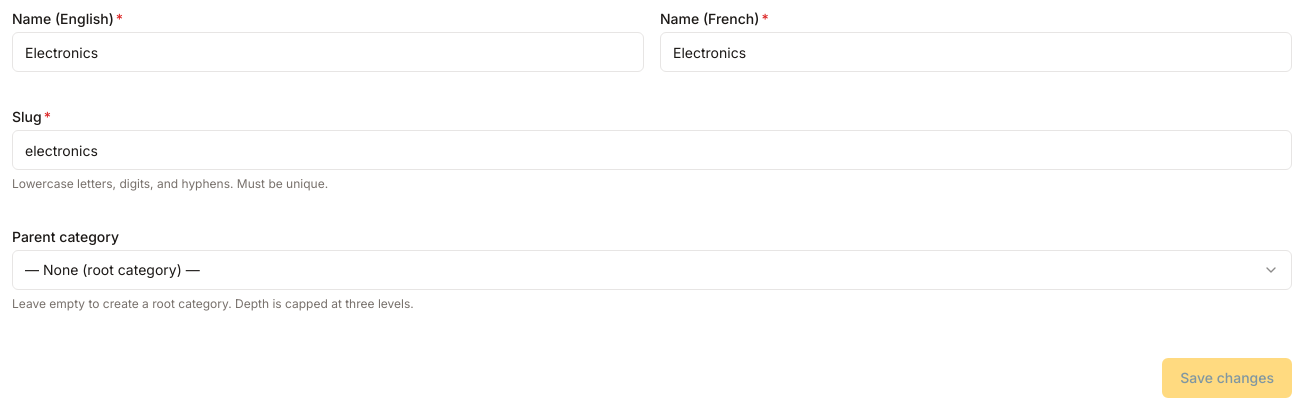
it: CategoryForm (edit mode) › excludes self and descendants from the parent dropdown
Click the dropdown. click: point(112, 270)
box: [12,250,1292,290]
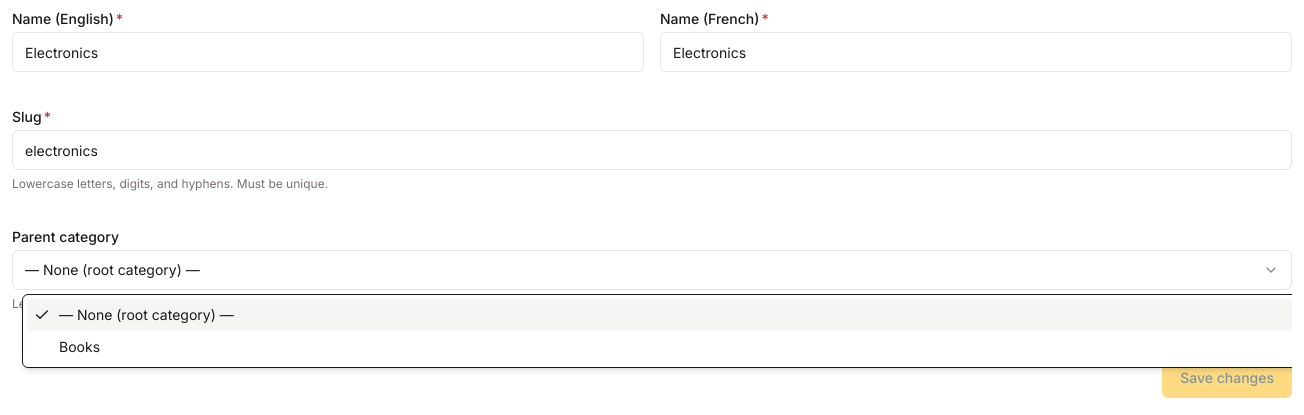
Result: the text "Books" is shown at [59,338,100,355]
